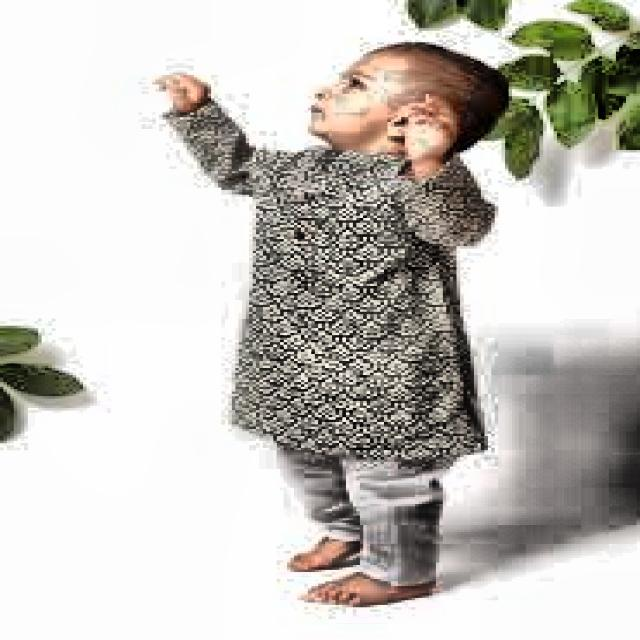Human: (131, 26, 518, 610)
